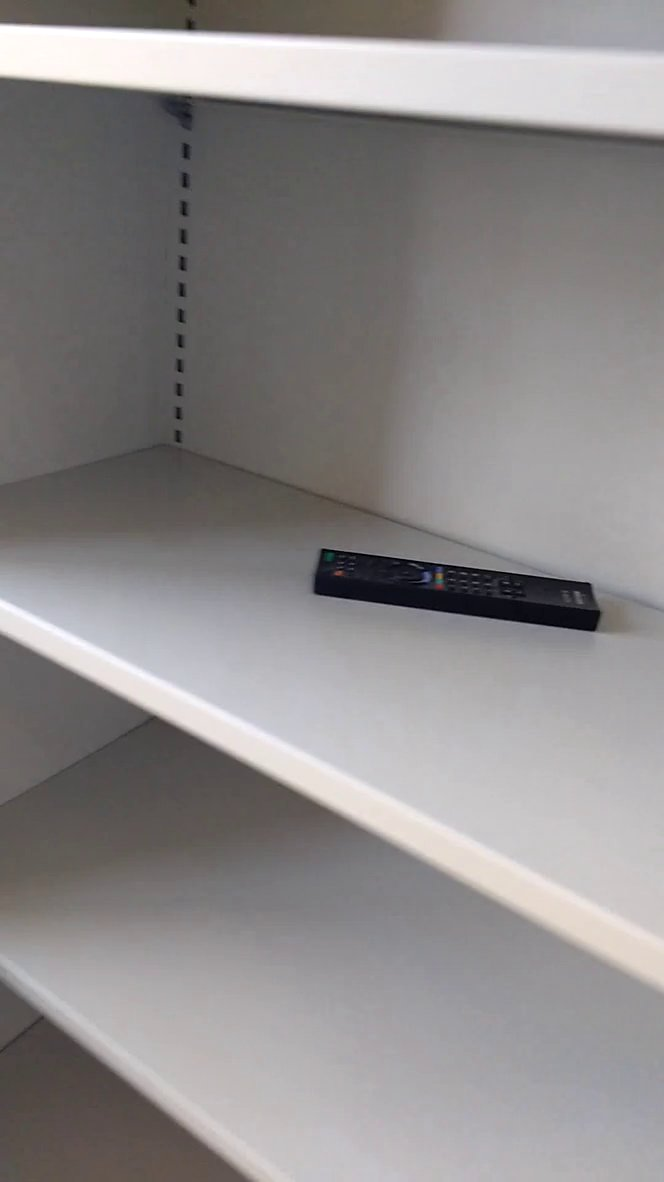remote: (291, 531, 623, 663)
